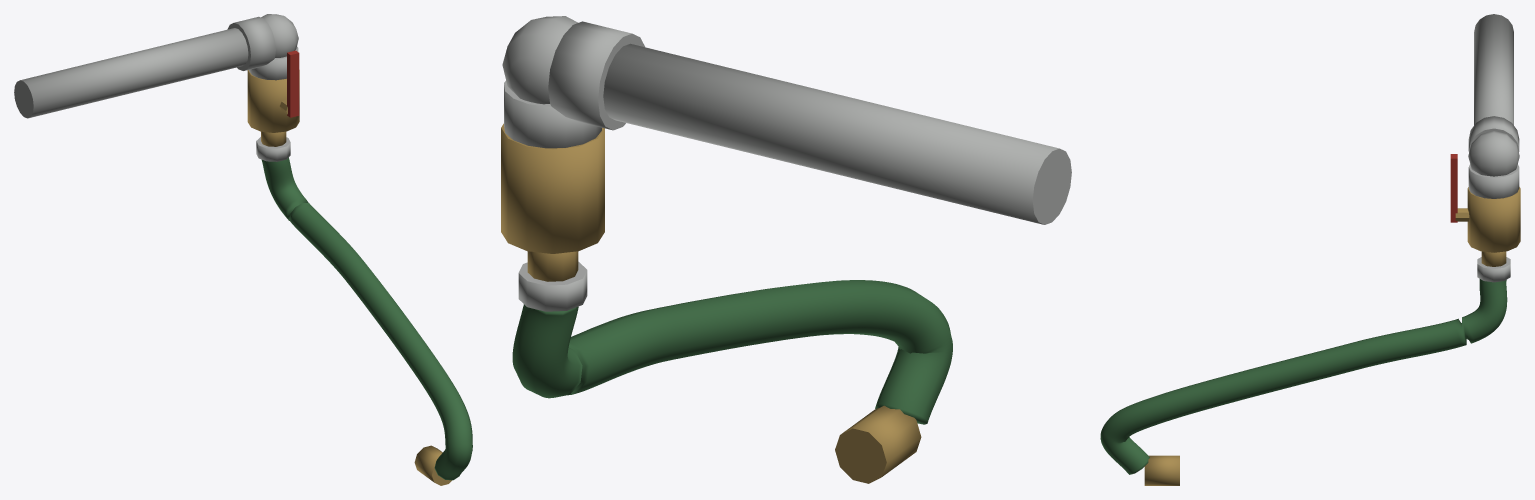
File: barrel_fill_low_bend3.obj
3 renders of one model, left to right at view 1: azimuth 30°, elevation 25°; view 2: azimuth 150°, elevation 25°; view 3: azimuth 270°, elevation 25°, orthographic. The views are drawn at different scales.
Parts seen in each view (by area): view 1: hose, pipe8, valve_body, elbow_socket8, elbow_hub, valve_lever, nozzle, elbow_socket1, hose_collar; view 2: pipe8, hose, valve_body, elbow_socket8, nozzle, elbow_hub, elbow_socket1, hose_collar, hose_barb; view 3: hose, pipe8, valve_body, elbow_hub, elbow_socket1, nozzle, elbow_socket8, hose_collar, valve_lever.
Part boxes in pixels (x1,y1,x2,y2): hose: (261, 157, 472, 480); pipe8: (14, 28, 248, 118); valve_body: (247, 70, 299, 132); elbow_socket8: (227, 16, 275, 70); elbow_hub: (261, 14, 298, 57); valve_lever: (287, 50, 299, 117); nozzle: (414, 445, 451, 485); elbow_socket1: (249, 46, 298, 80); hose_collar: (256, 137, 290, 161); pipe8: (603, 43, 1071, 224); hose: (512, 280, 952, 424); valve_body: (501, 123, 604, 253); elbow_socket8: (548, 21, 644, 130); nozzle: (835, 405, 921, 483); elbow_hub: (502, 16, 578, 104); elbow_socket1: (504, 80, 601, 148); hose_collar: (518, 261, 587, 311); hose_barb: (527, 251, 578, 281); hose: (1100, 279, 1507, 474); pipe8: (1474, 14, 1513, 124); valve_body: (1467, 187, 1520, 252); elbow_hub: (1468, 131, 1519, 176); elbow_socket1: (1468, 164, 1519, 198); nozzle: (1144, 455, 1179, 485); elbow_socket8: (1468, 116, 1519, 152); hose_collar: (1477, 257, 1510, 282); valve_lever: (1450, 154, 1457, 222).
Size of the model in its own units: 0.5528 by 0.6586 by 0.7142.
4 materials, 4 textured.
